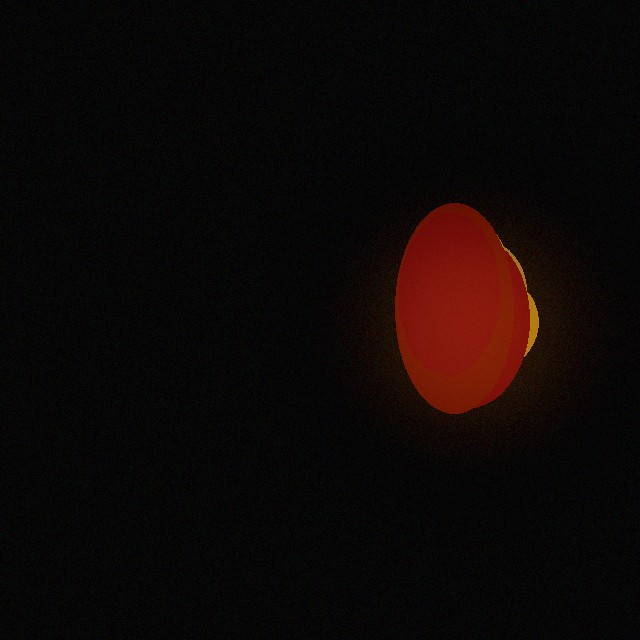fire: (408, 256, 534, 396)
